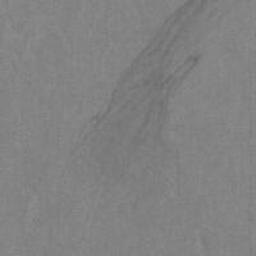Water spot: (83, 0, 242, 186)
